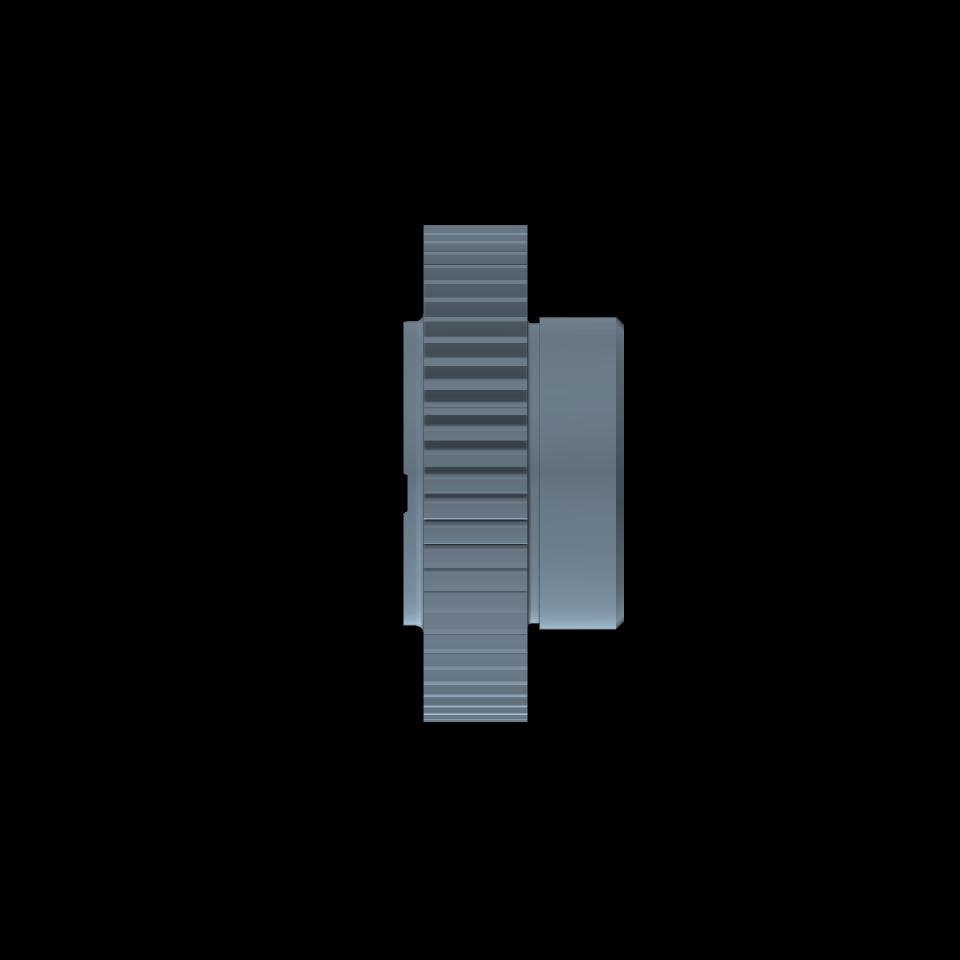Straight: (424, 226, 528, 721)
